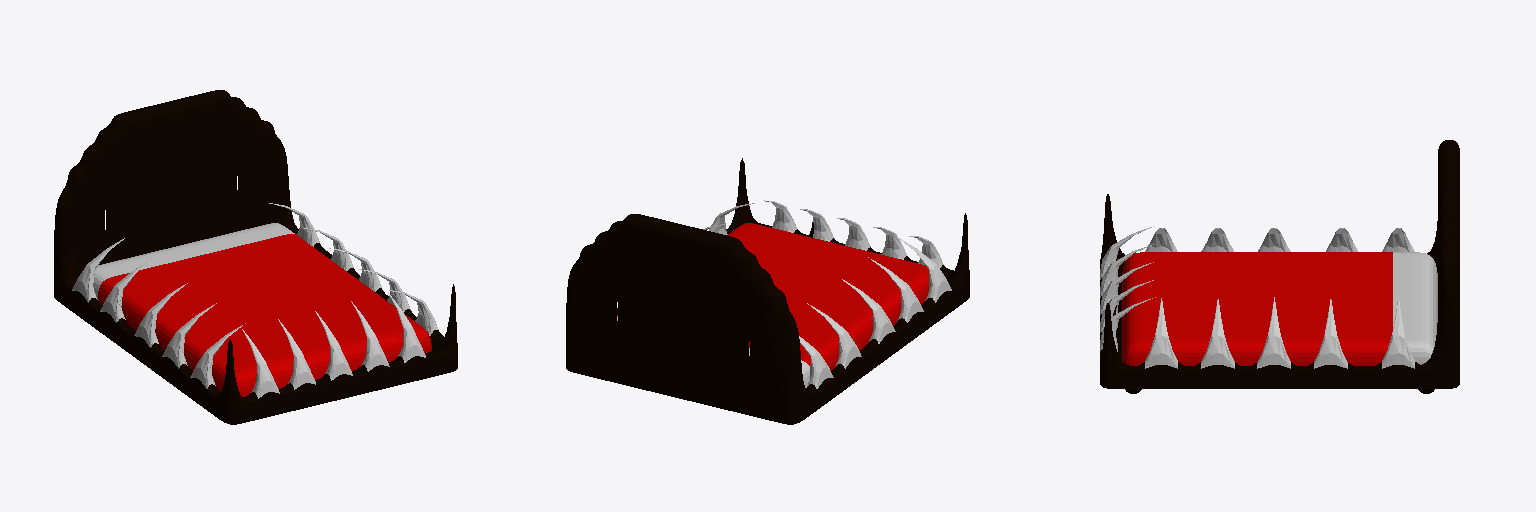
The model's file is litdéformé.obj.
The picture shows the model from 3 angles: view 1: azimuth 30°, elevation 25°; view 2: azimuth 150°, elevation 25°; view 3: azimuth 270°, elevation 25°; orthographic projection.
Visible parts, largest first — view 1: Cube_Cube.001; view 2: Cube_Cube.001; view 3: Cube_Cube.001.
Boxes of the visible parts, x1=… form: Cube_Cube.001: x1=54, y1=90, x2=457, y2=424; Cube_Cube.001: x1=566, y1=158, x2=969, y2=424; Cube_Cube.001: x1=1100, y1=140, x2=1459, y2=393.
Size of the model in its own units: 4.48 by 3.33 by 5.98.